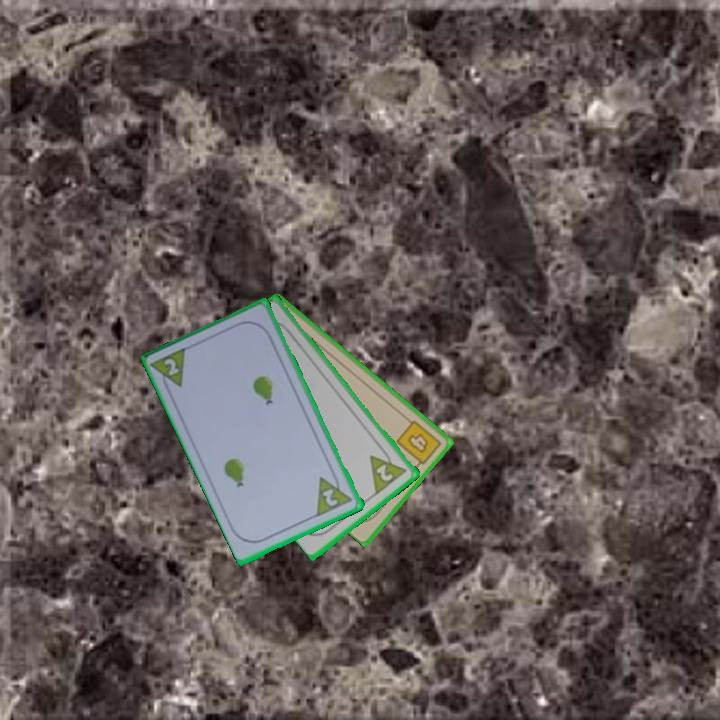2p: (366, 443, 411, 497), (148, 343, 191, 397), (319, 485, 341, 509)
4b: (392, 416, 444, 471)
